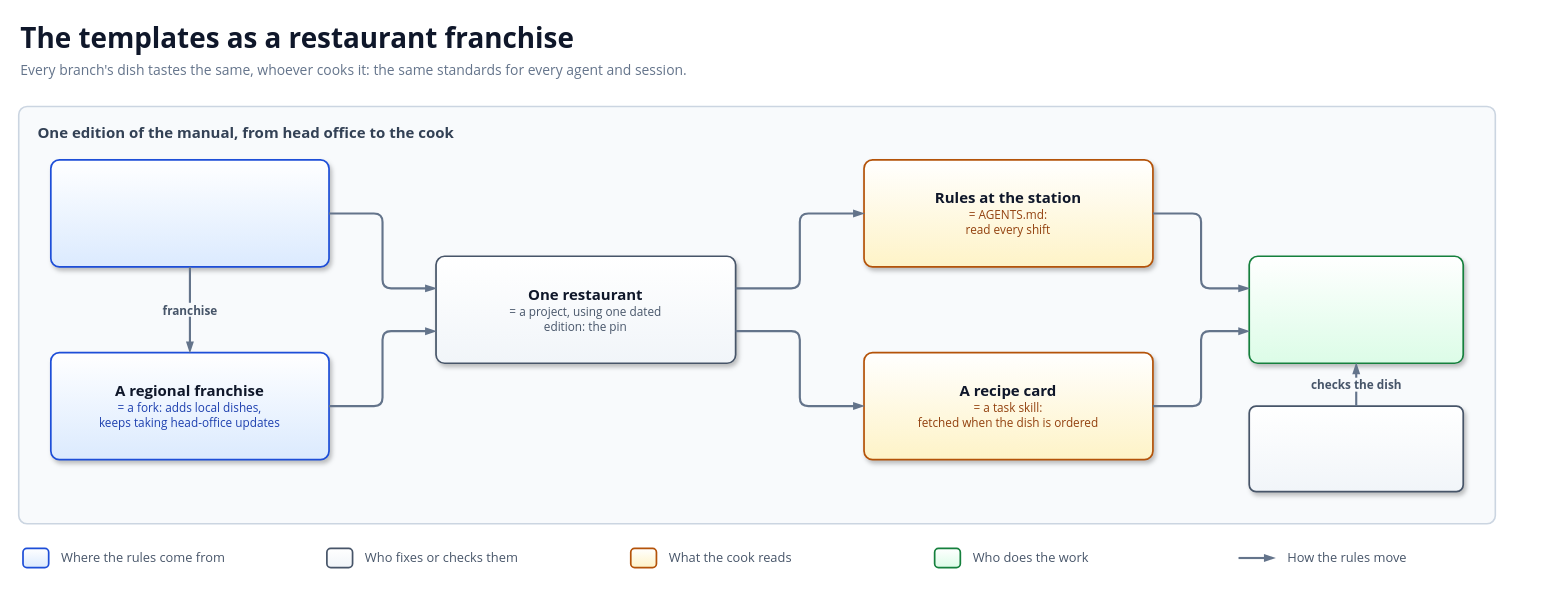
This 1561x589 diagram has some shape labels left out. Here are the shapes that lost their labels. From the top down, the centre of each, then its label:
At [190,214]: "Head office's manual = upstream: the core and the layers".
At [1357,311]: "The cook = the coding agent".
At [1357,449]: "The inspector = hooks and checks".
